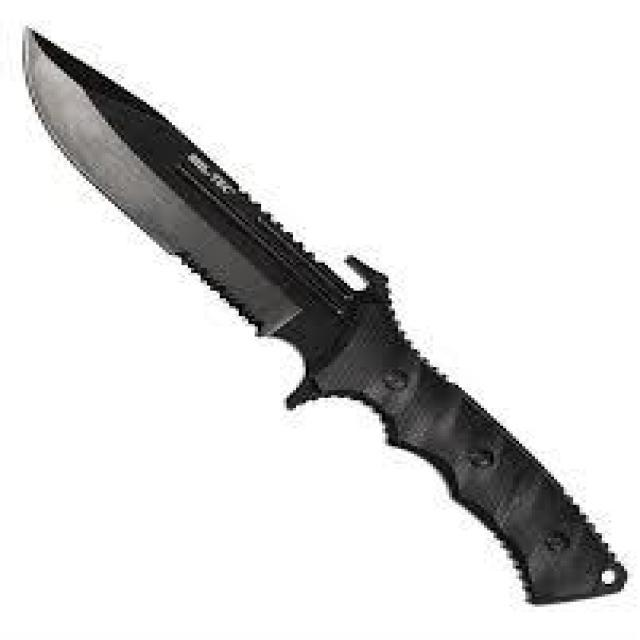Knife: (9, 16, 636, 618)
